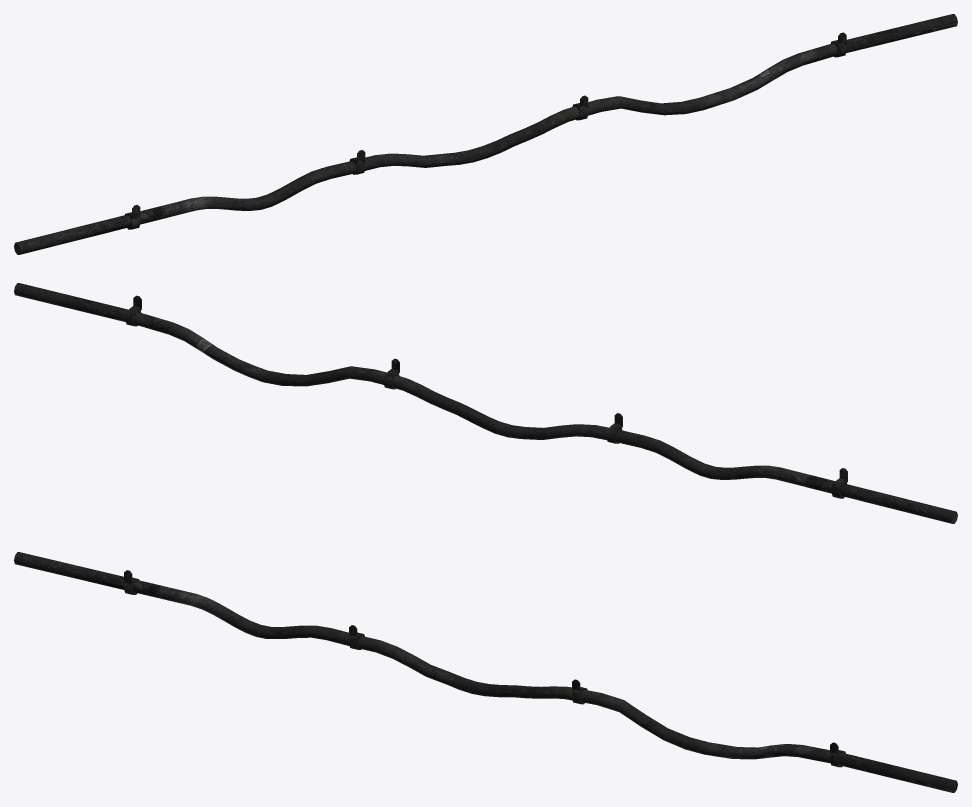
The model's file is SM_Bunker_12.fbx.
3 views of the same model, one above another, from view 1: azimuth 30°, elevation 25°; view 2: azimuth 150°, elevation 25°; view 3: azimuth 330°, elevation 25° (orthographic).
Parts seen in each view (by area): view 1: SM_Bunker_12; view 2: SM_Bunker_12; view 3: SM_Bunker_12.
Part boxes in pixels (x1,y1,x2,y2): SM_Bunker_12: (14,14,957,254); SM_Bunker_12: (14,283,957,523); SM_Bunker_12: (14,552,957,792).
Bounding box in the file's own units: 250 × 4.86 × 12.46.
